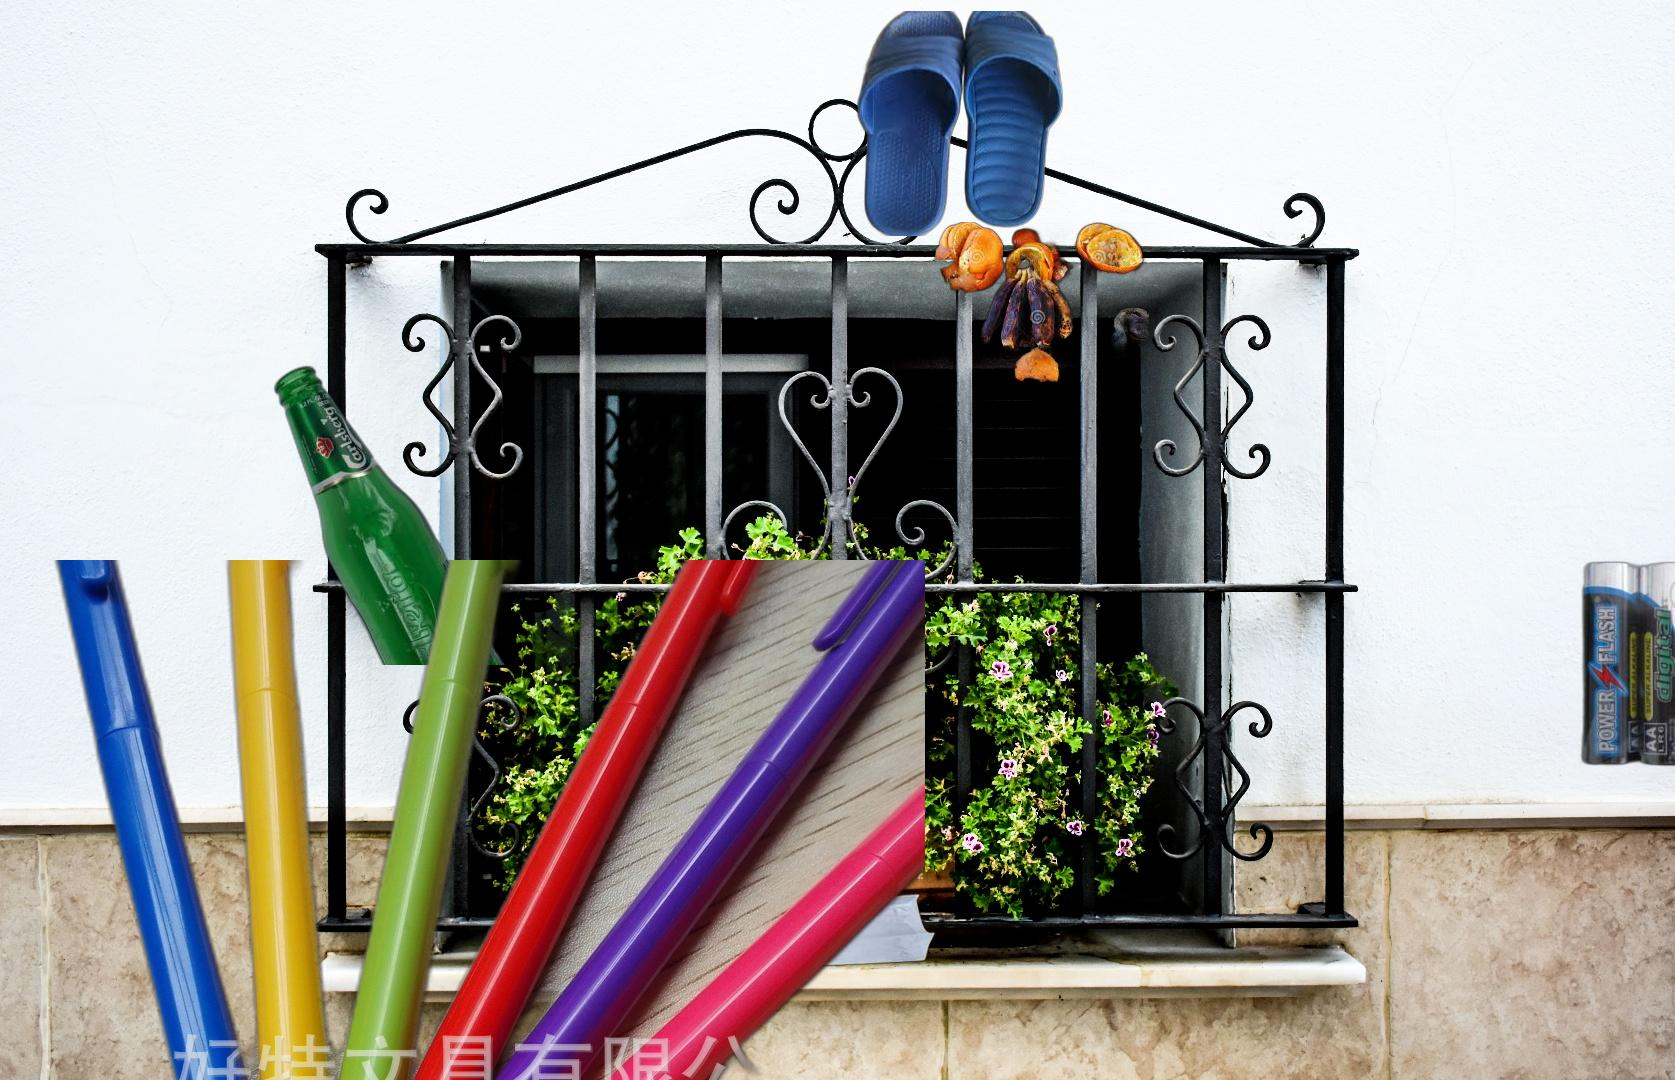battery: (1577, 556, 1675, 770)
biological: (886, 222, 1149, 414)
clothes: (230, 1053, 629, 1080)
glass: (271, 362, 508, 665)
penholder: (46, 560, 925, 1080)
plastic-bag: (659, 866, 940, 1014)
shoes: (855, 11, 1066, 236)
